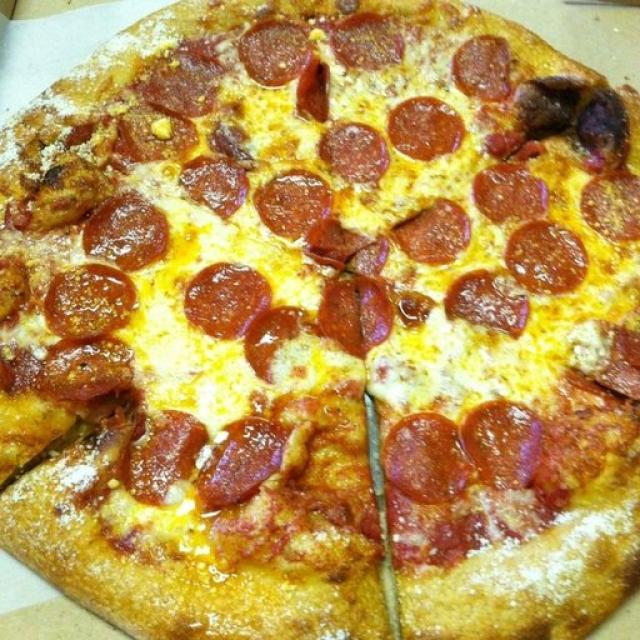Cheese: (384, 346, 542, 388), (147, 344, 250, 404), (142, 284, 190, 389), (243, 92, 296, 153), (344, 73, 390, 117)
Pepperoni: (381, 412, 466, 494), (466, 394, 542, 484), (82, 192, 170, 263), (128, 410, 205, 490), (191, 264, 265, 338), (48, 266, 128, 331), (216, 416, 283, 493), (506, 223, 579, 293), (47, 339, 132, 399), (235, 17, 310, 83), (325, 278, 396, 346), (450, 268, 531, 326), (146, 49, 222, 109), (395, 195, 467, 257), (473, 162, 550, 218), (116, 110, 196, 162), (451, 38, 514, 103), (257, 179, 324, 238), (183, 154, 244, 217), (394, 100, 456, 157), (326, 125, 386, 183), (584, 171, 640, 231), (255, 313, 306, 378), (336, 18, 400, 69), (314, 225, 374, 275)
Pizza: (0, 0, 640, 640)
